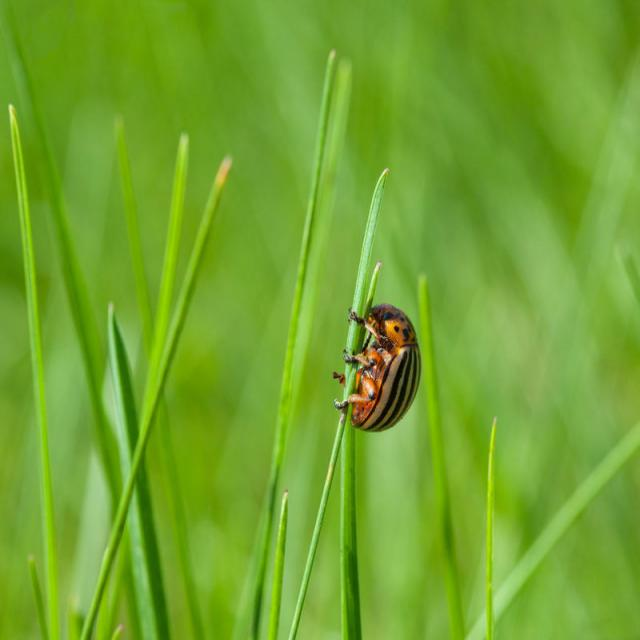ShuCaiHuaBanChong-Grown-: (325, 288, 435, 450)
